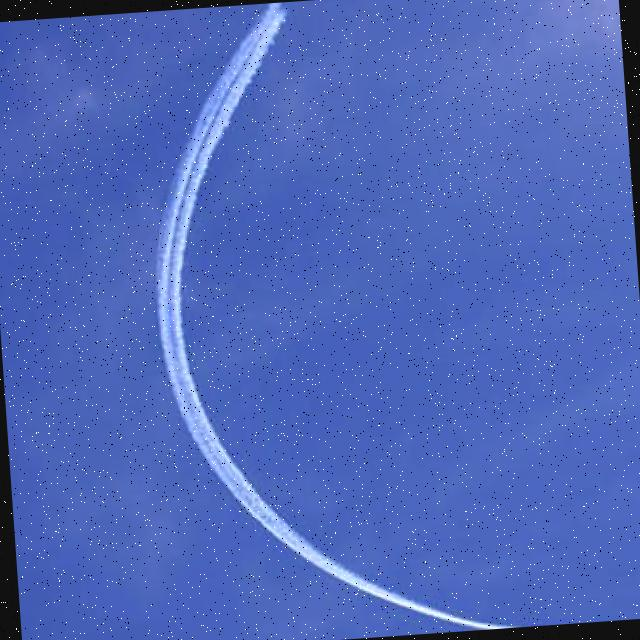Ct: (118, 1, 617, 640)
